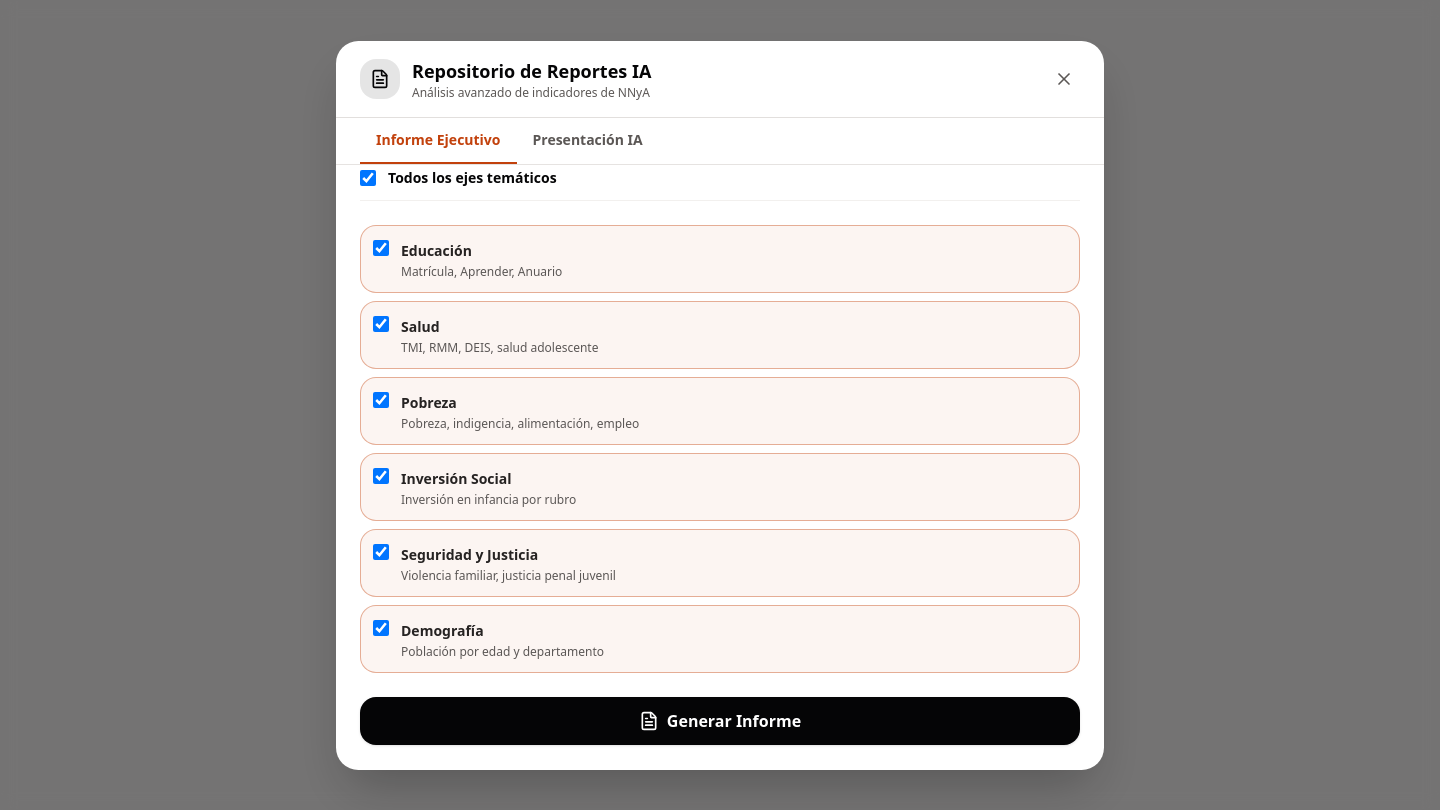
Test case: ReportModal › shows loading spinner when generating report
(page scrolled)
Click the button "Generar Informe". click: point(720, 721)
box: [360,697,1080,745]
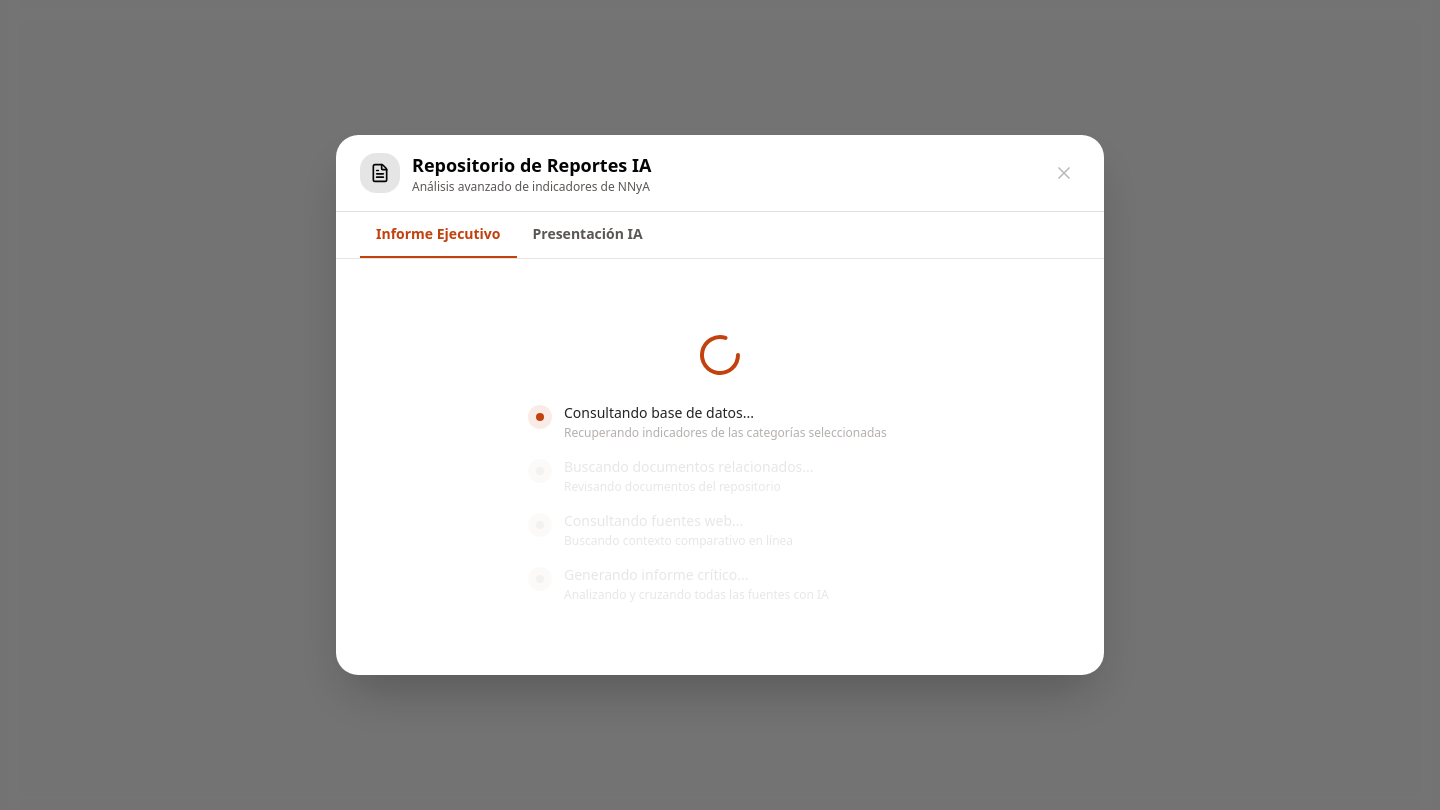
Now the text "Consultando base de datos..." is shown, box [564,403,754,422]
Now the text "Consultando fuentes web..." is shown, box [564,511,743,530]
Now the text "Generando informe crítico..." is shown, box [564,565,749,584]
